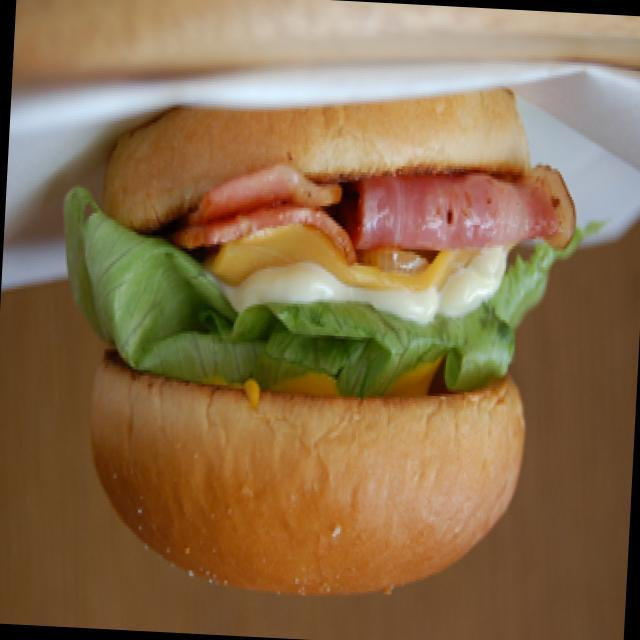Hamburger: (44, 0, 602, 640)
